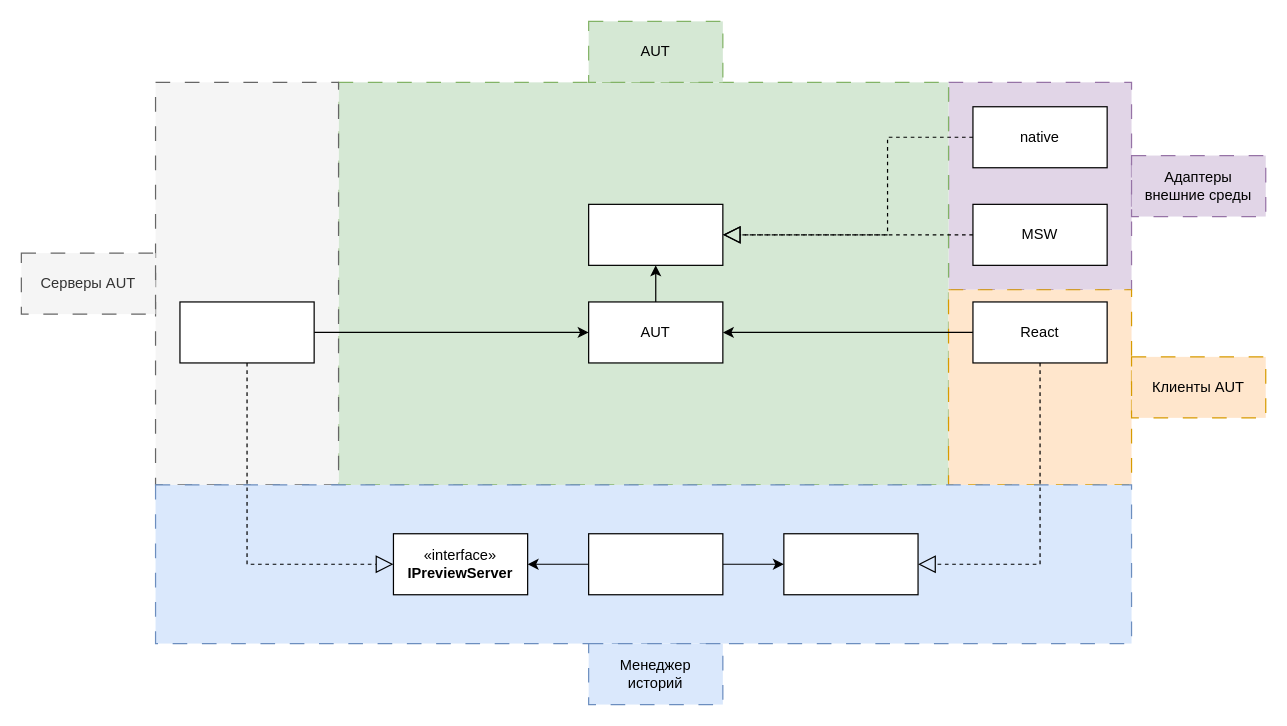
The diagram is 1287 pixels wide and 726 high, and some of its shapes have lost their labels. Each missing label, with the centre of its shape:
"Core" belongs at point (655, 564).
"Exec" belongs at point (246, 332).
"«interface» IExternals" belongs at point (655, 234).
"«interface» IPreviewClient" belongs at point (850, 564).
